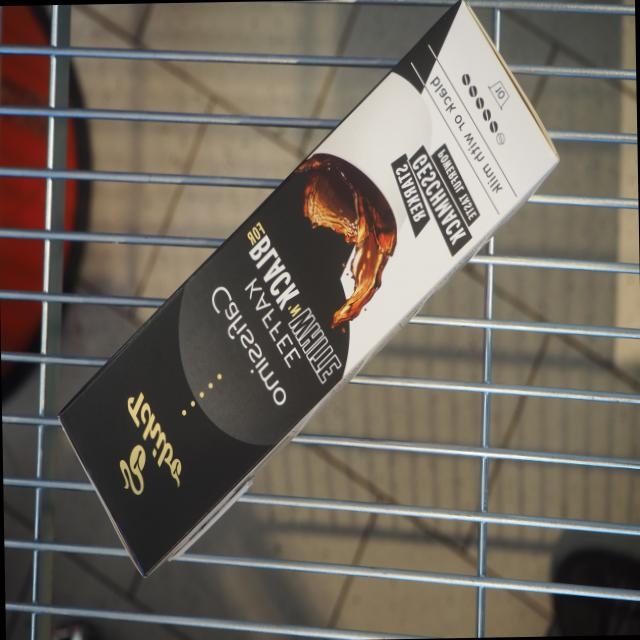Simo Kaffee BW: (51, 0, 570, 589)
